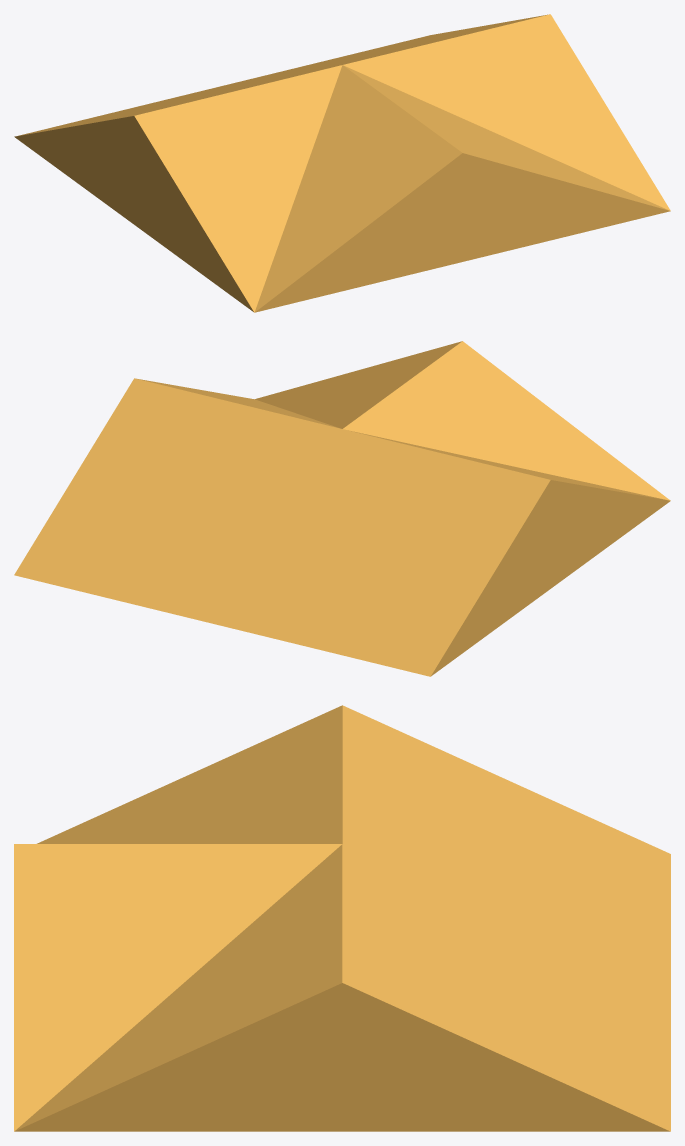
Rendered from Roof-Shallow-4x4x1-Gable-Tee.FBX.
3 views of the same model, one above another, from view 1: azimuth 30°, elevation 25°; view 2: azimuth 150°, elevation 25°; view 3: azimuth 270°, elevation 25° (orthographic). The views are drawn at different scales.
Parts seen in each view (by area): view 1: Roof-Shallow-4x4x1-Gable-Tee; view 2: Roof-Shallow-4x4x1-Gable-Tee; view 3: Roof-Shallow-4x4x1-Gable-Tee.
Part boxes in pixels (x1,y1,x2,y2): Roof-Shallow-4x4x1-Gable-Tee: (14, 14, 670, 312); Roof-Shallow-4x4x1-Gable-Tee: (14, 341, 670, 676); Roof-Shallow-4x4x1-Gable-Tee: (14, 705, 670, 1131).
Size of the model in its own units: 40 by 40 by 10.
